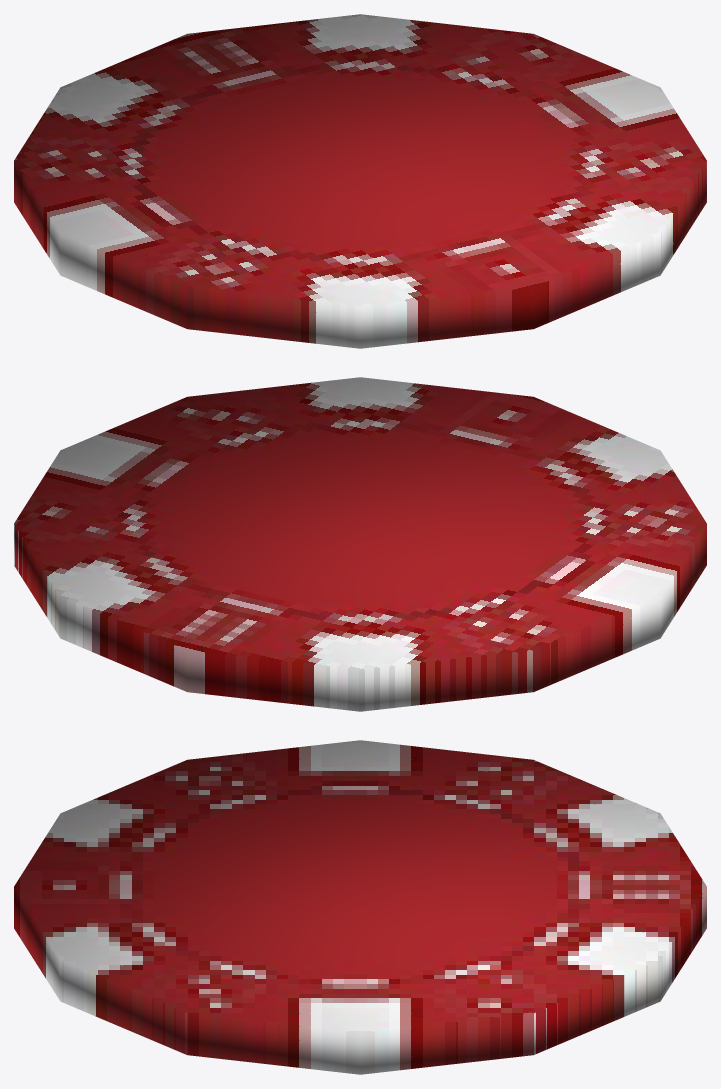
Rendered from WorldItem-HCMoney_PokerChip.fbx.
3 renders of one model, top to bottom at view 1: azimuth 30°, elevation 25°; view 2: azimuth 150°, elevation 25°; view 3: azimuth 270°, elevation 25°, orthographic.
Parts seen in each view (by area): view 1: Pokerchip; view 2: Pokerchip; view 3: Pokerchip.
Part boxes in pixels (bbox=[...]): Pokerchip: bbox=[14, 14, 706, 348]; Pokerchip: bbox=[14, 377, 706, 711]; Pokerchip: bbox=[14, 740, 706, 1074].
Bounding box in the file's own units: 0.0286 × 0.0019 × 0.0286.
